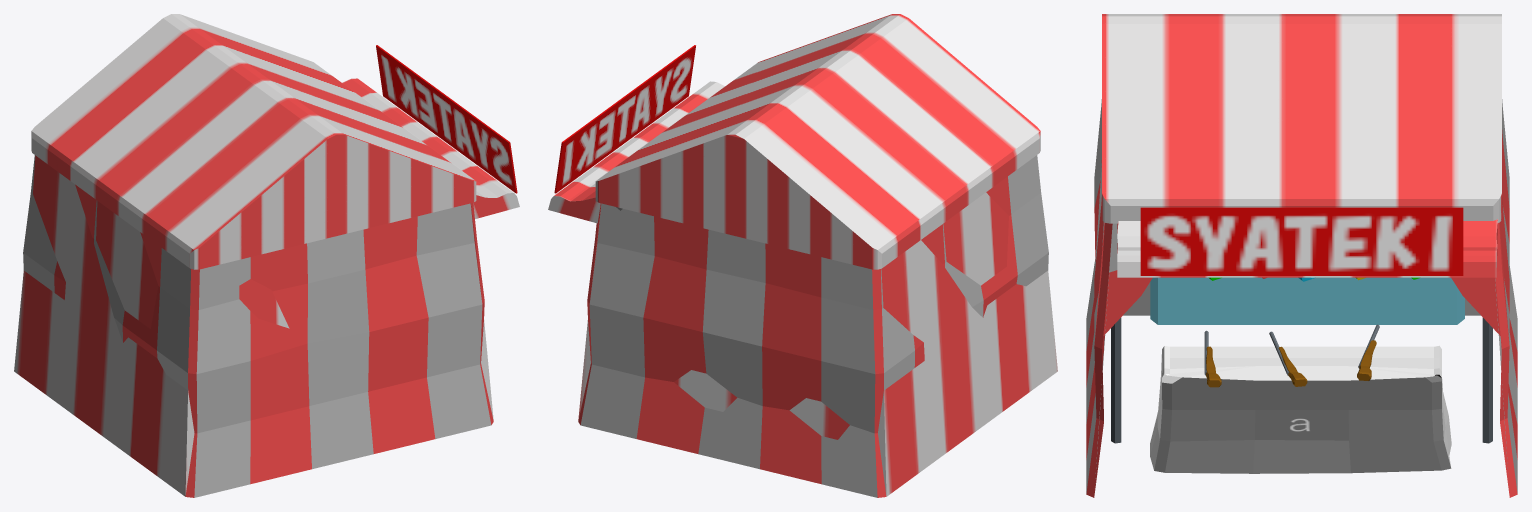
File: rowtentsyateki.fbx
The picture shows the model from 3 angles, left to right: view 1: azimuth 30°, elevation 25°; view 2: azimuth 150°, elevation 25°; view 3: azimuth 270°, elevation 25°; orthographic projection. The views are drawn at different scales.
Parts seen in each view (by area): view 1: 立方体.001, 立方体, 立方体.003, 平面, Cube.001; view 2: 立方体.001, 立方体, 立方体.003, 平面, Cube.001; view 3: 立方体, 立方体.002, 平面, 平面.001, 立方体.001, Cube.001, 円柱, 球.040, 球.024, 球.041.
Boxes of the visible parts, left/top/right/bottom form: 立方体.001: left=23, top=155, right=493, bottom=497; 立方体: left=31, top=14, right=476, bottom=269; 立方体.003: left=14, top=155, right=493, bottom=496; 平面: left=376, top=45, right=517, bottom=193; Cube.001: left=342, top=78, right=519, bottom=218; 立方体.001: left=578, top=155, right=1048, bottom=497; 立方体: left=595, top=14, right=1040, bottom=269; 立方体.003: left=578, top=134, right=1057, bottom=496; 平面: left=554, top=45, right=695, bottom=193; Cube.001: left=548, top=81, right=724, bottom=223; 立方体: left=1102, top=14, right=1501, bottom=223; 立方体.002: left=1150, top=345, right=1451, bottom=473; 平面: left=1140, top=207, right=1463, bottom=275; 平面.001: left=1150, top=277, right=1464, bottom=324; 立方体.001: left=1086, top=99, right=1517, bottom=497; Cube.001: left=1117, top=219, right=1497, bottom=277; 円柱: left=1111, top=317, right=1492, bottom=443; 球.040: left=1269, top=331, right=1307, bottom=386; 球.024: left=1204, top=330, right=1221, bottom=387; 球.041: left=1357, top=324, right=1379, bottom=380.
Bounding box in the file's own units: 246 × 215 × 216.
